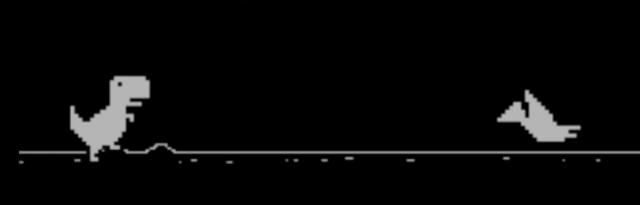bird: (498, 91, 580, 141)
dinosaur: (71, 77, 149, 161)
